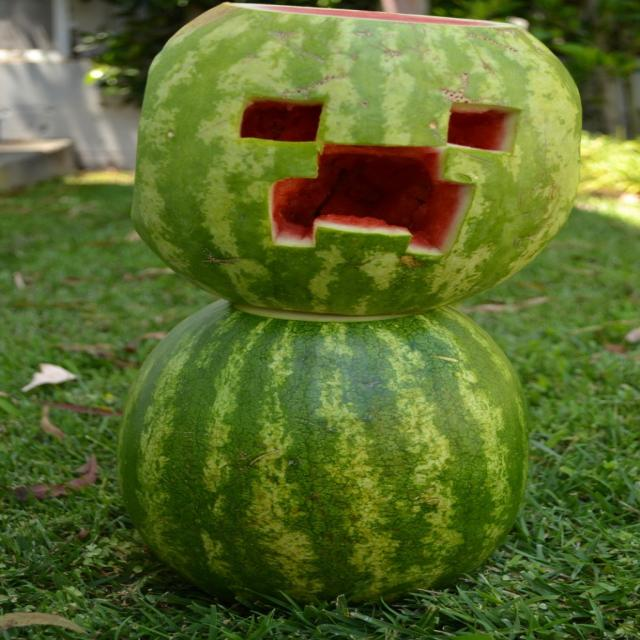watermelon: (127, 1, 588, 314), (116, 296, 530, 612)
